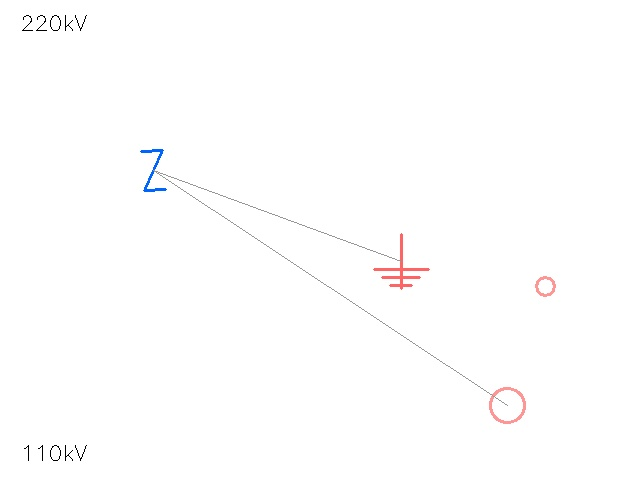circuit_breaker: (131, 148, 175, 192)
current_transformer: (526, 267, 564, 305)
ground: (374, 234, 428, 288)
surge_arrester: (473, 371, 541, 439)
